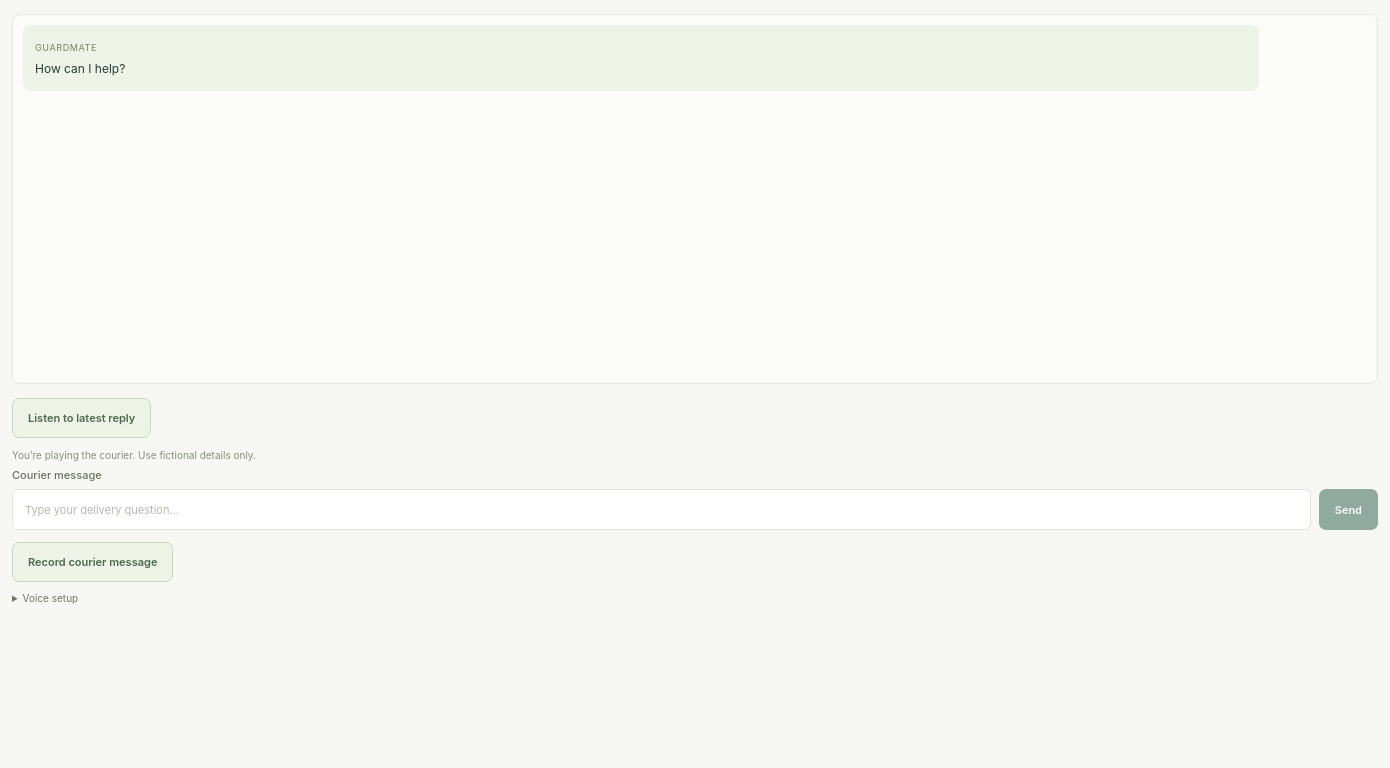
Scenario: recording and reply audio coordination › disables reply audio during microphone capture, transcription and transcript review
The image size is (1390, 768).
Step 1. Click the button "Record courier message" → [93, 562], box [12,542,173,582]
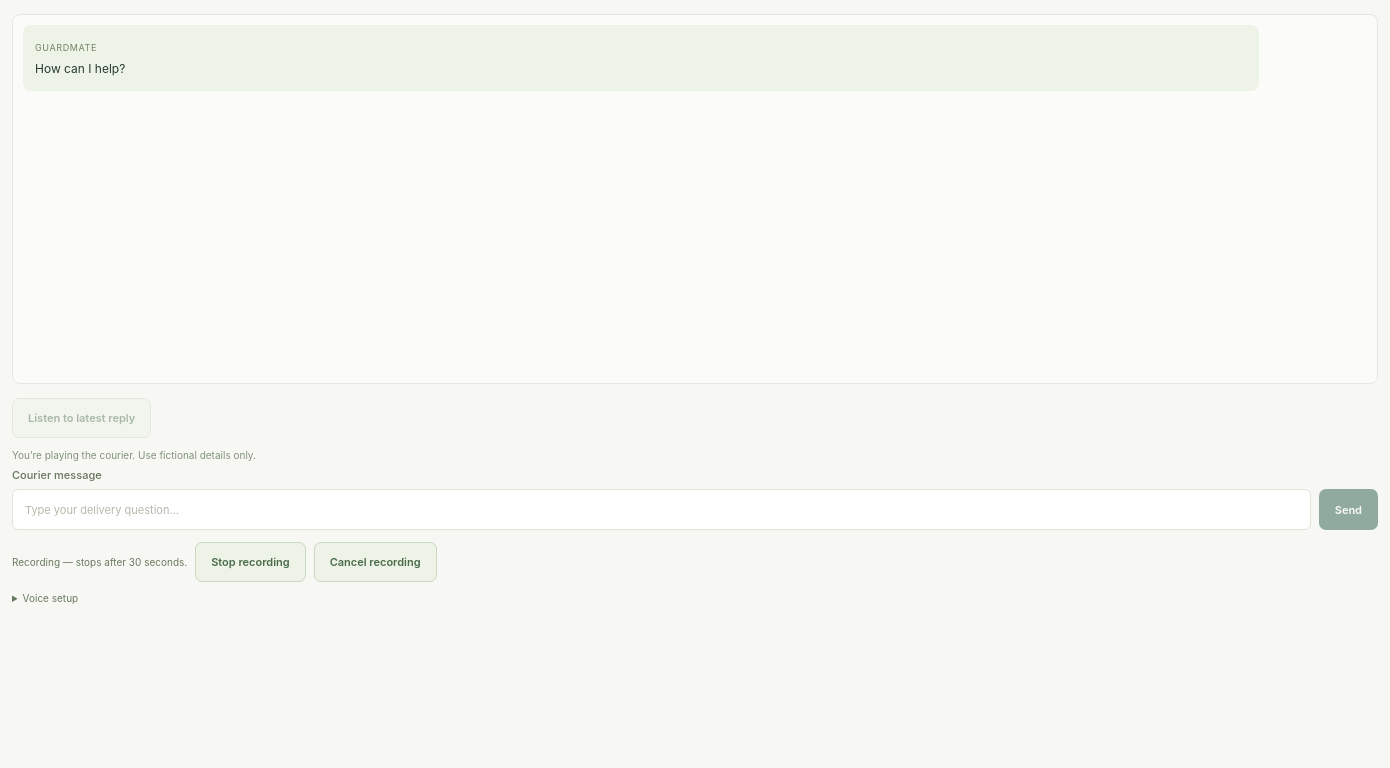
Expected: the button "Stop recording" is shown
Expected: the button "Listen to latest reply" is disabled, [12,398,151,438]
Step 2. Click the button "Stop recording" → [250, 562], box [195,542,306,582]
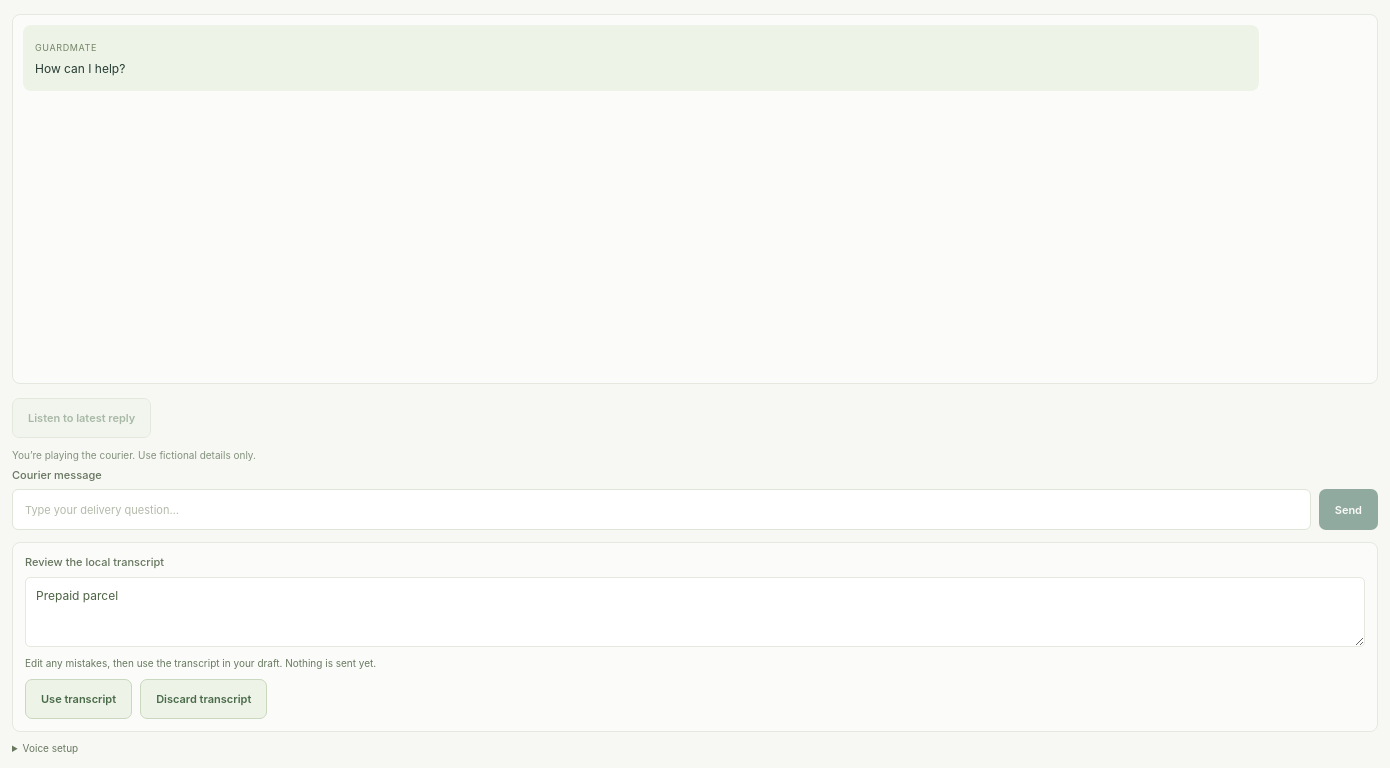
Expected: the button "Listen to latest reply" is disabled, [12,398,151,438]
Expected: the text box labelled "Review the local transcript" is shown, [25,577,1365,647]
Step 3. Click the button "Discard transcript" → [204, 699], box [140,679,267,719]
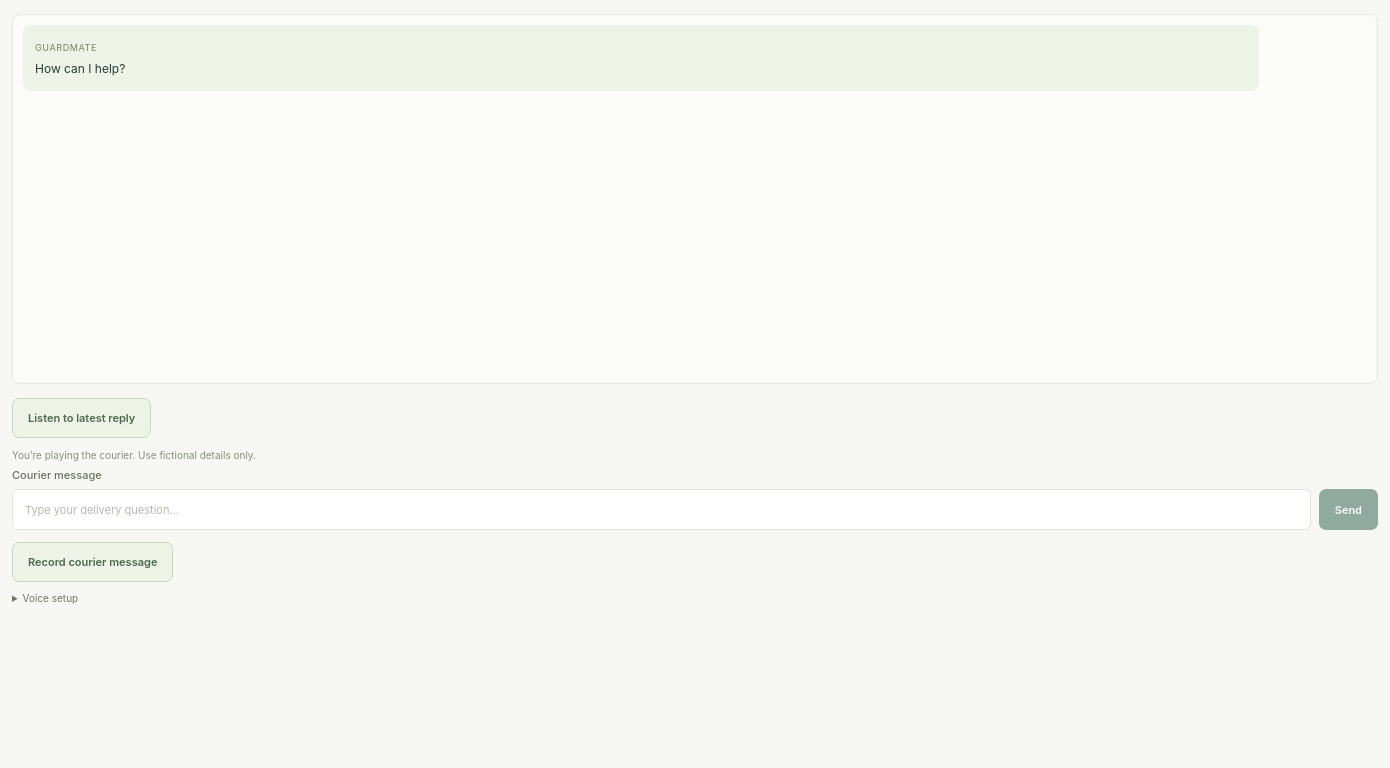
Expected: the button "Listen to latest reply" is enabled, [12,398,151,438]
